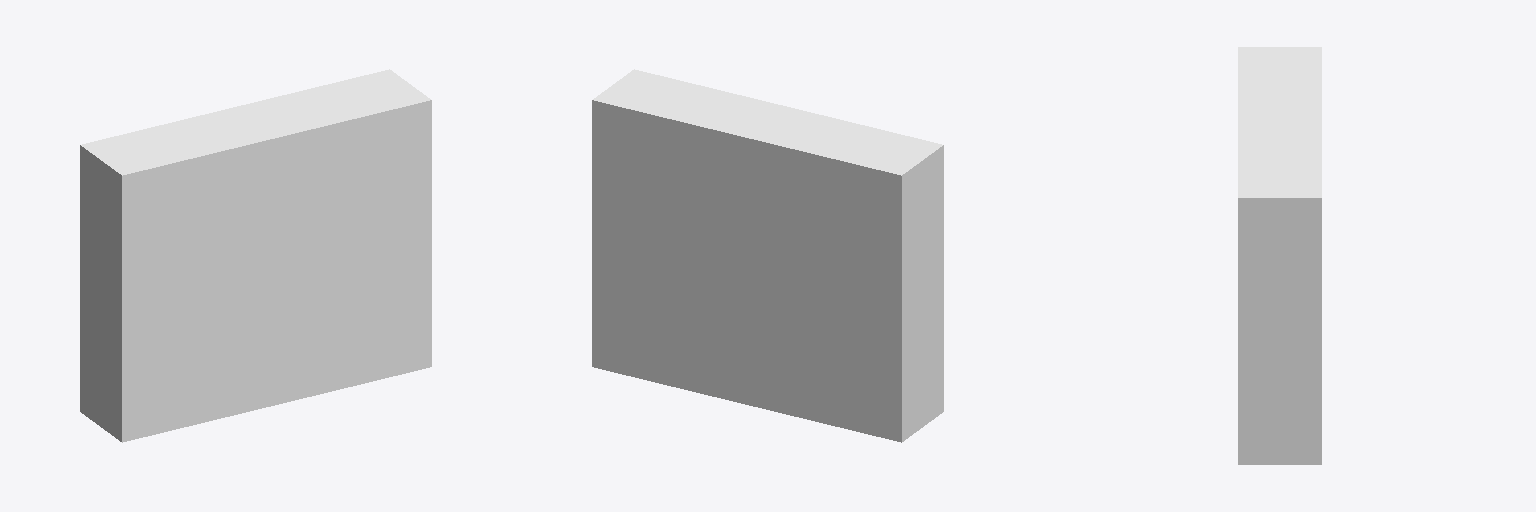
Rendered from wall_side.obj.
The picture shows the model from 3 angles: view 1: azimuth 30°, elevation 25°; view 2: azimuth 150°, elevation 25°; view 3: azimuth 270°, elevation 25°; orthographic projection.
Size of the model in its own units: 17 by 14 by 4.